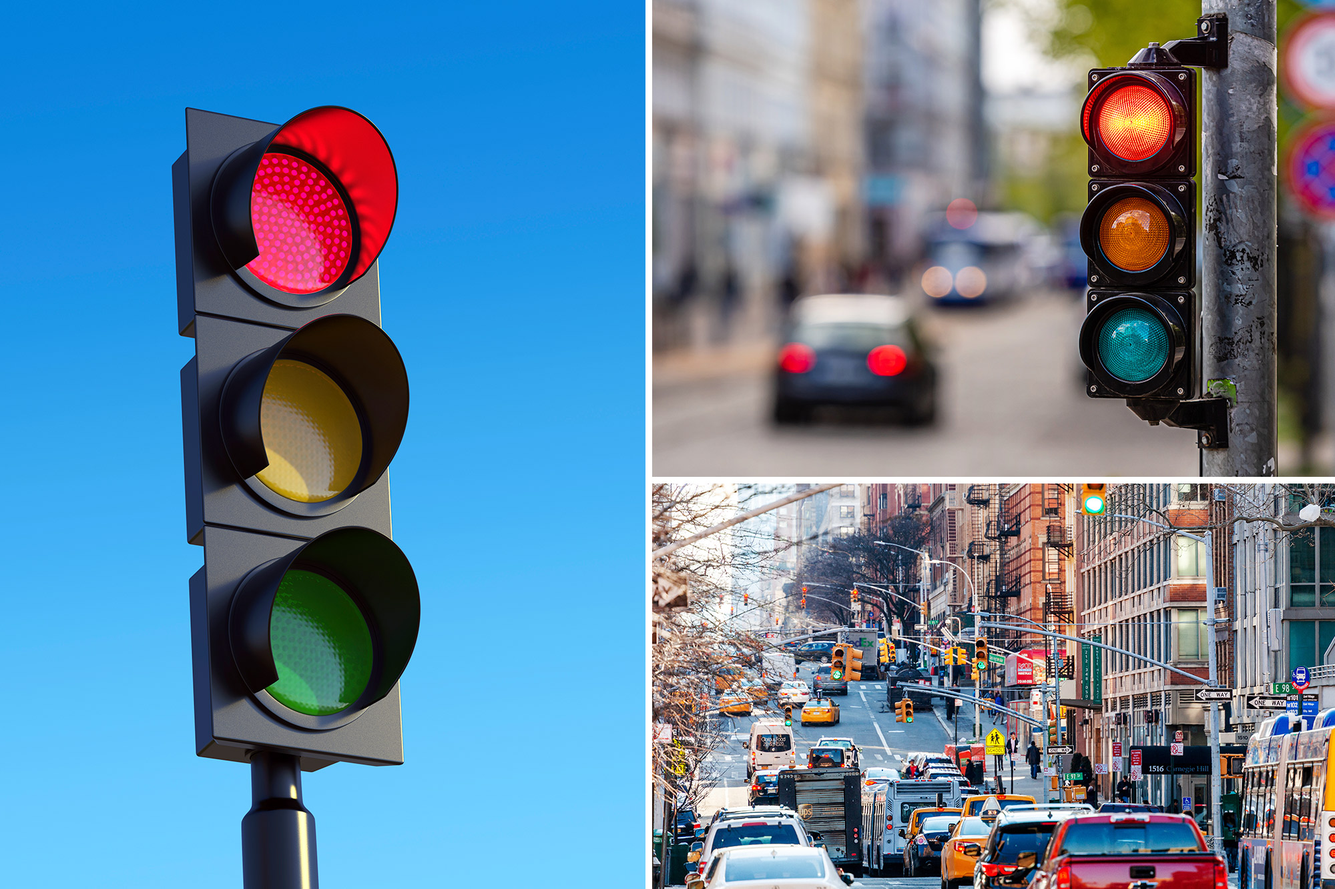TraficLight: (142, 73, 467, 814), (1050, 41, 1300, 413)
